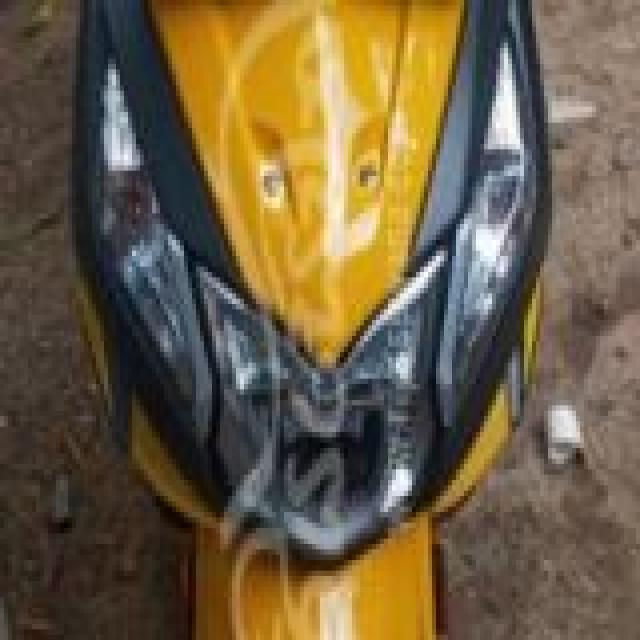motorbike: (56, 0, 559, 640)
